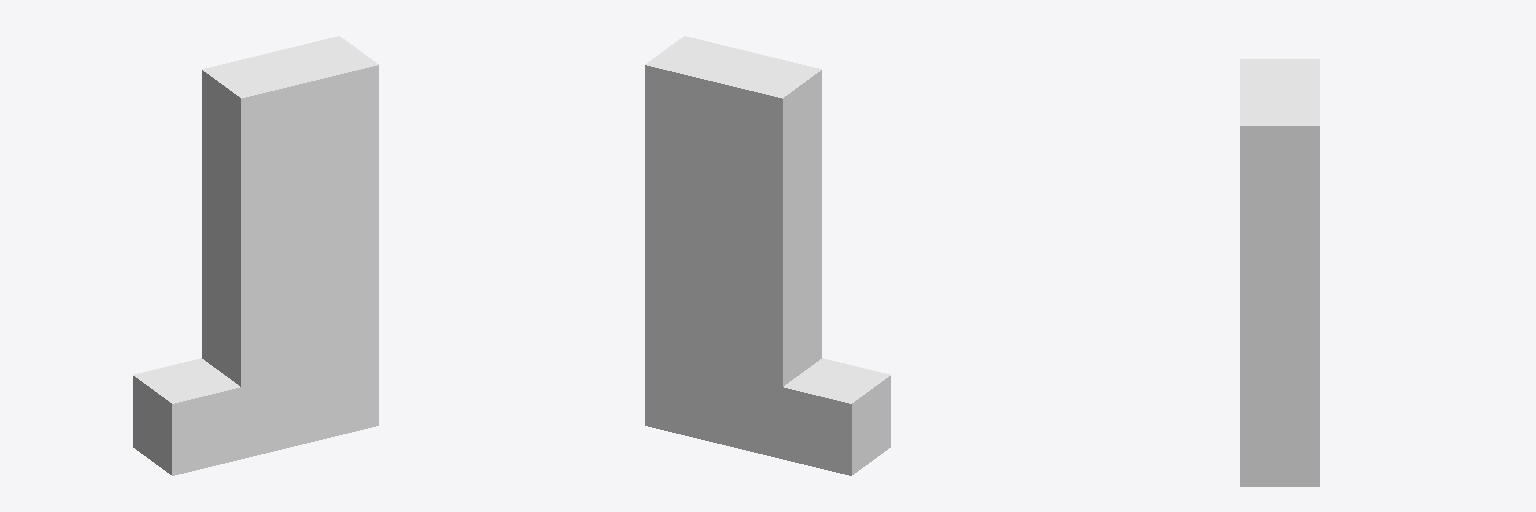
File: pesari_jalka.obj
3 renders of one model, left to right at view 1: azimuth 30°, elevation 25°; view 2: azimuth 150°, elevation 25°; view 3: azimuth 270°, elevation 25°, orthographic.
Size of the model in its own units: 3 by 5 by 1.